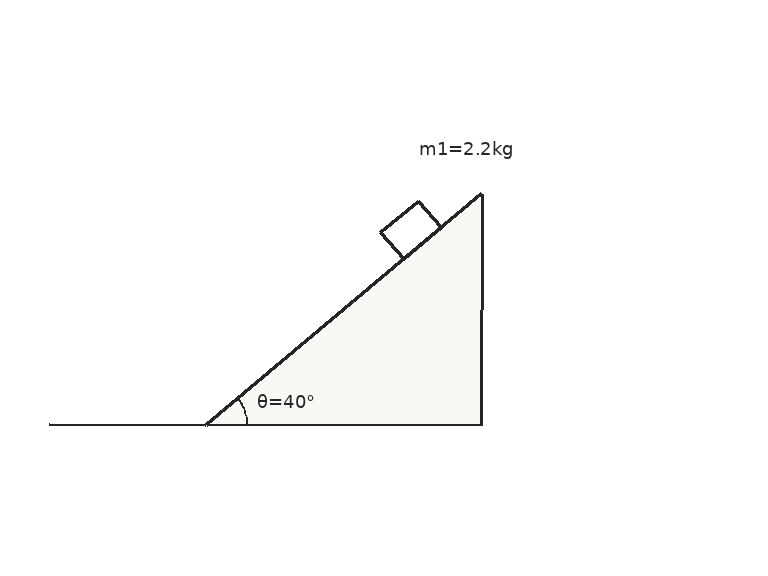block: (379, 198, 443, 261)
ramp: (205, 192, 483, 426)
